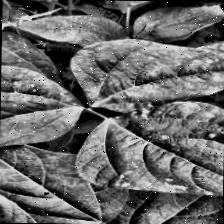Bean Rust: (76, 100, 224, 194), (65, 37, 224, 109), (0, 71, 79, 154), (134, 2, 224, 40)
